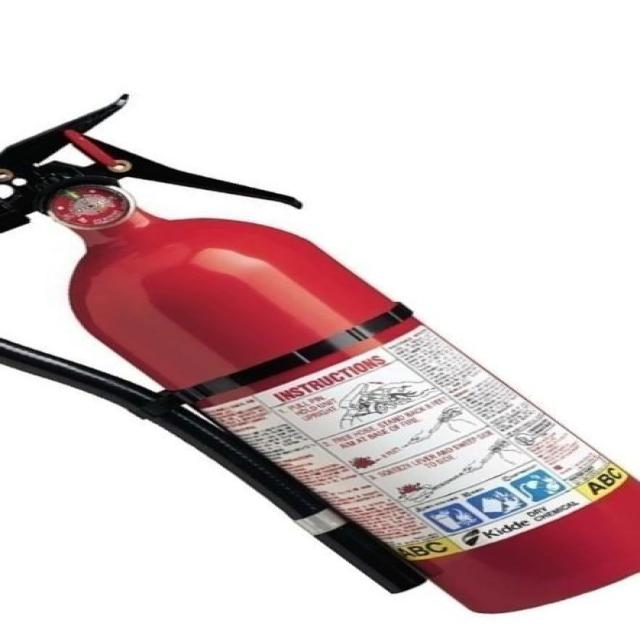fire_extinguisher: (0, 82, 636, 618)
